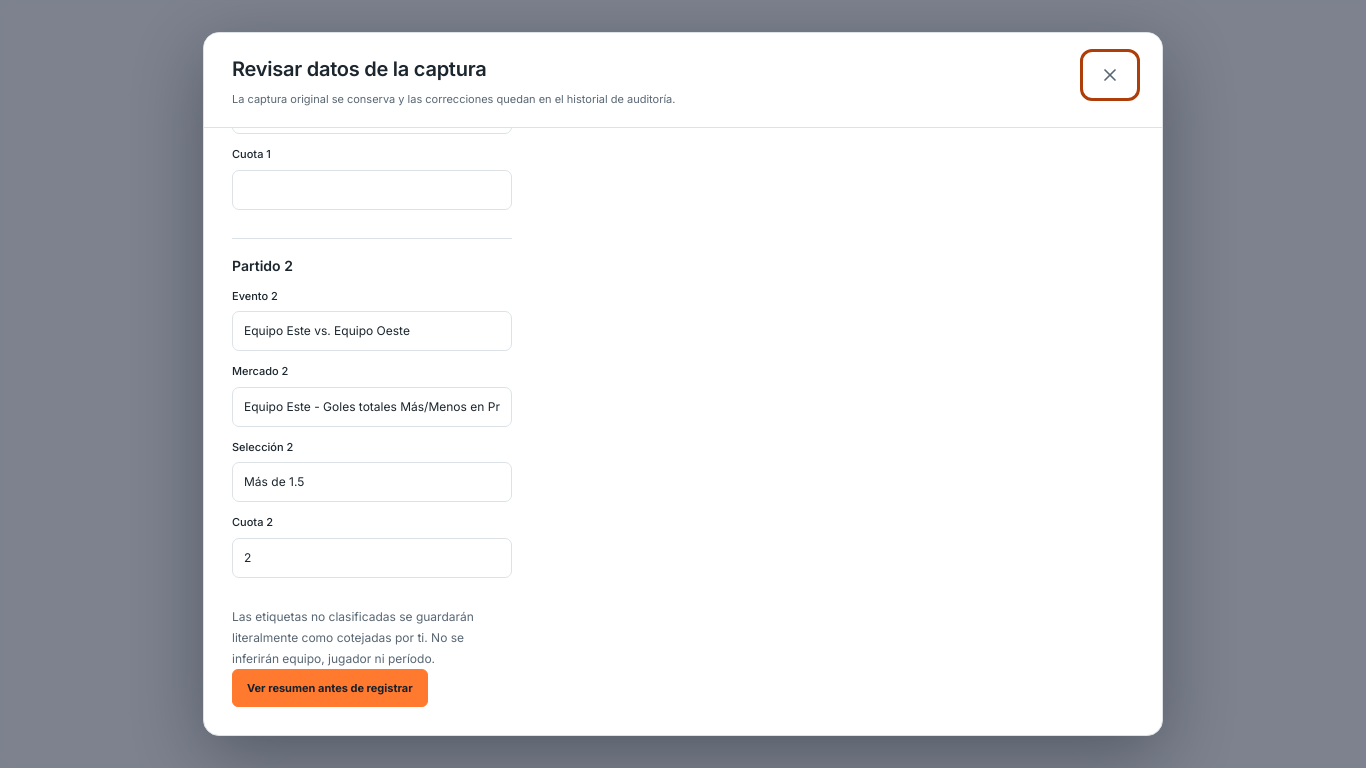
Scenario: shows a globally Ganada ticket without offering a pending registration
(page scrolled)
Click the button "Ver resumen antes de registrar" at (330, 688), box [232,669,428,707]
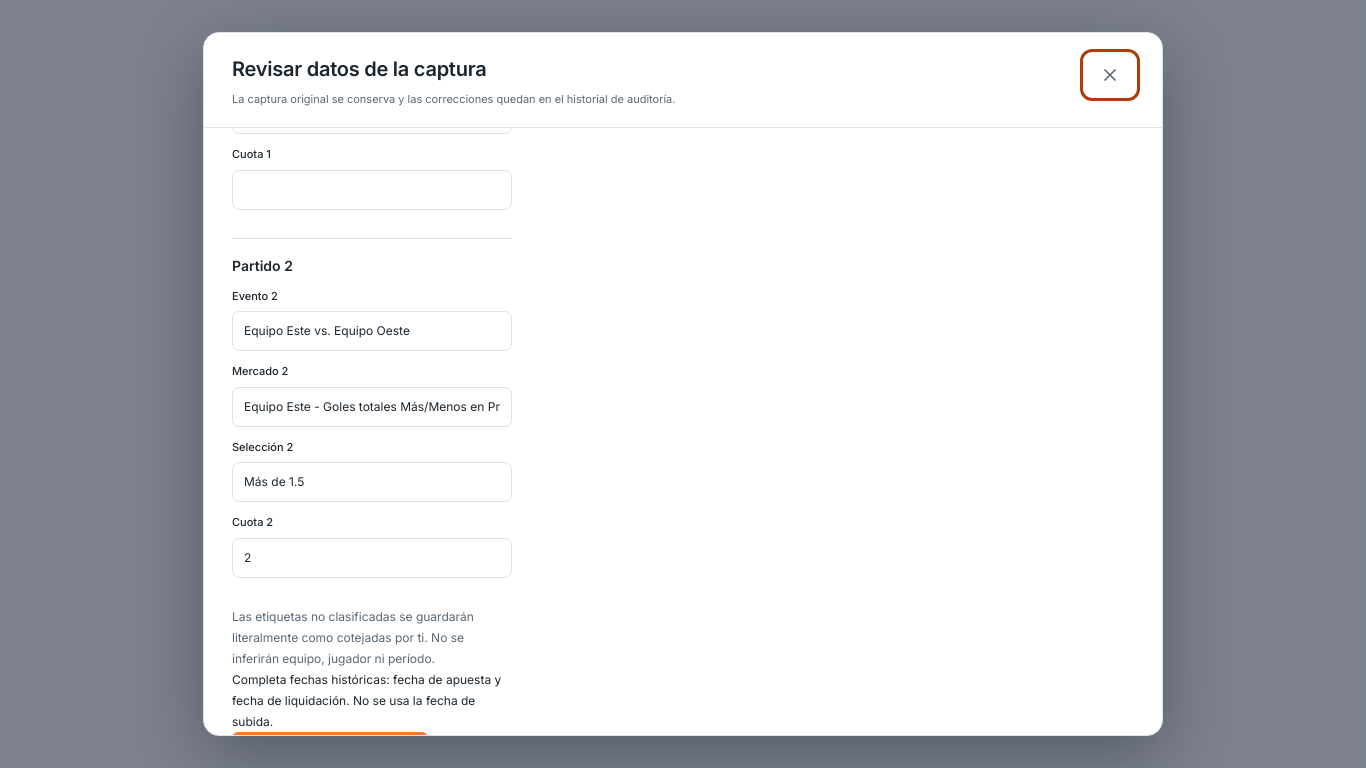
Expected: the message shows "Completa fechas históricas", [232,672,501,729]
